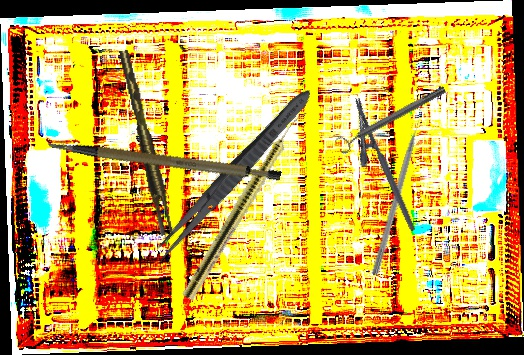Dressing Forceps: (147, 82, 319, 269)
Fixation Ring: (333, 81, 450, 156)
Handpiece: (180, 103, 310, 304)
Needle Holder: (335, 96, 417, 240)
Pusher: (370, 108, 428, 277)
Scalpel Handle: (47, 104, 283, 212)
Tissue Forceps: (119, 47, 174, 238)
